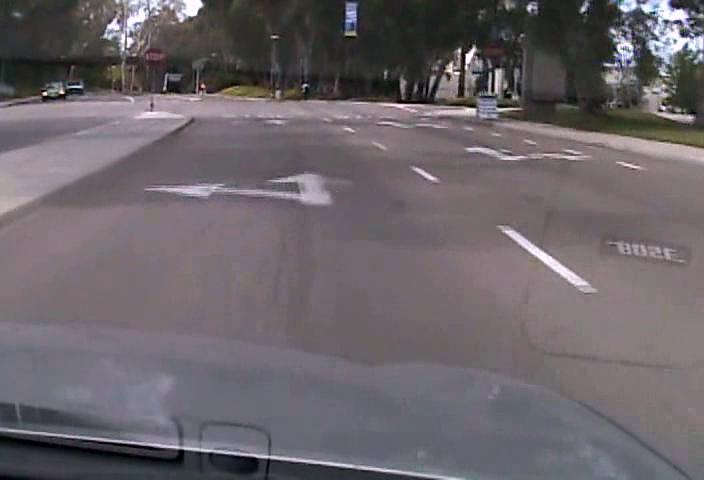stop: (142, 45, 166, 67)
